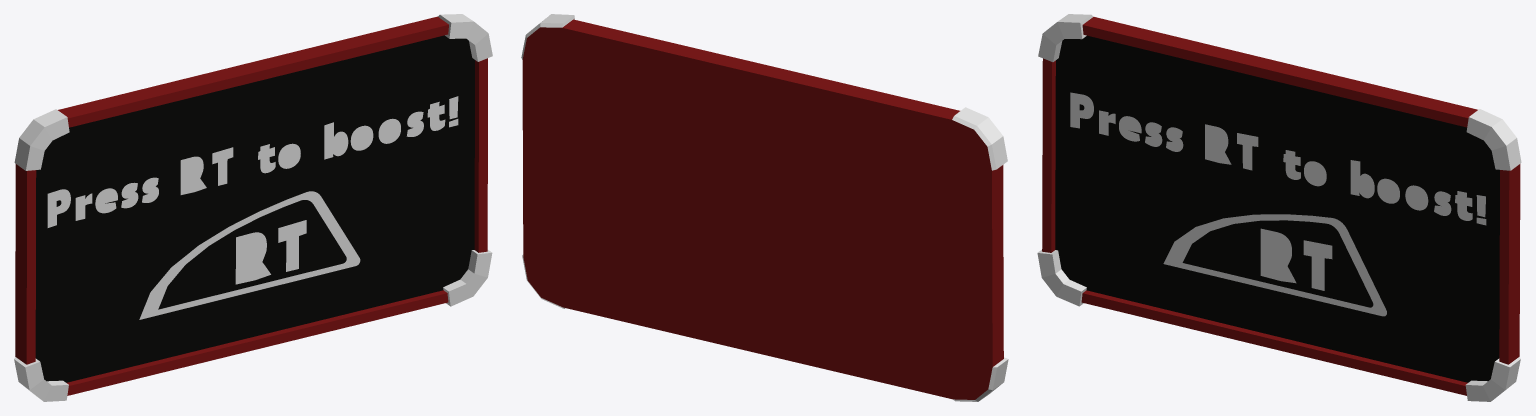
The model's file is Tuto6-XB.FBX.
3 views of the same model, side by side, from view 1: azimuth 30°, elevation 25°; view 2: azimuth 150°, elevation 25°; view 3: azimuth 330°, elevation 25° (orthographic).
Parts seen in each view (by area): view 1: Pizarra 8, Text025, Shape015, Text026; view 2: Pizarra 8; view 3: Pizarra 8, Text025, Shape015, Text026.
Boxes of the visible parts, left/top/right/bottom form: Pizarra 8: left=14, top=14, right=492, bottom=401; Text025: left=47, top=96, right=458, bottom=227; Shape015: left=139, top=191, right=360, bottom=319; Text026: left=235, top=220, right=306, bottom=284; Pizarra 8: left=521, top=14, right=1008, bottom=401; Pizarra 8: left=1037, top=14, right=1521, bottom=401; Text025: left=1070, top=92, right=1486, bottom=225; Shape015: left=1163, top=214, right=1386, bottom=316; Text026: left=1260, top=228, right=1332, bottom=290.
Bounding box in the file's own units: 77.68 × 44.99 × 4.52.
